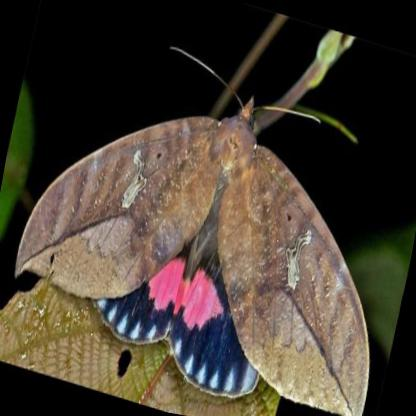fruit sucking moth: (17, 91, 369, 416)
